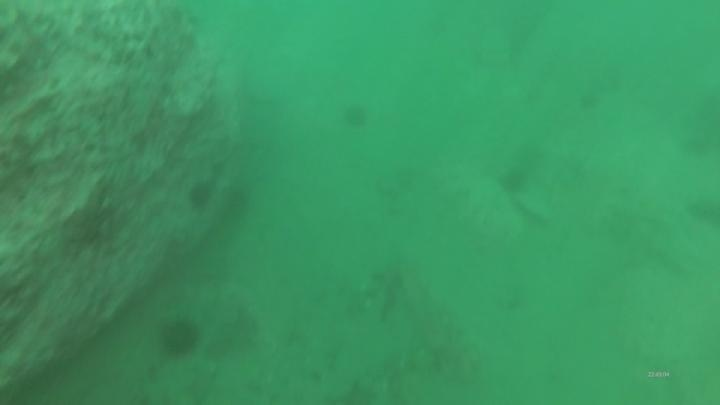echinus: (156, 314, 203, 360), (218, 181, 253, 223), (684, 192, 720, 228), (496, 164, 531, 196), (185, 178, 216, 212), (340, 101, 371, 131)
